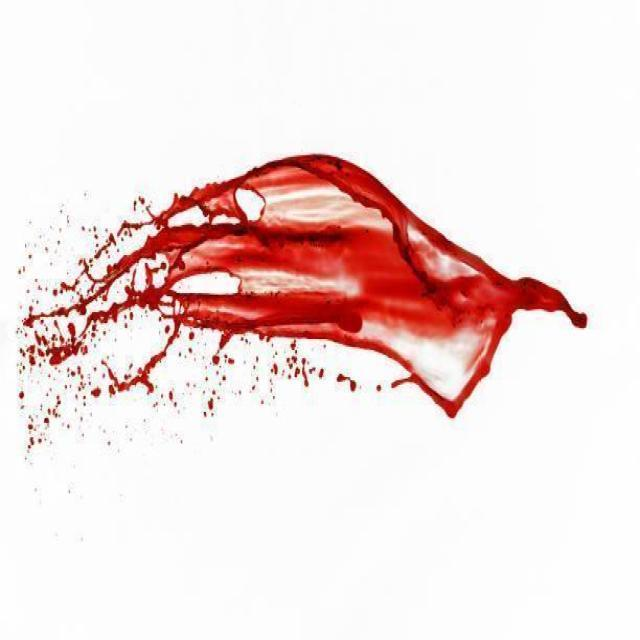flood: (38, 159, 587, 424)
